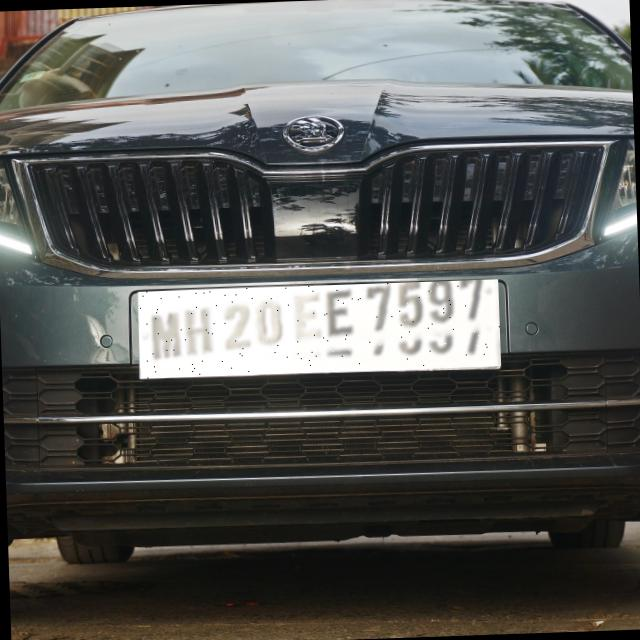Plate: (139, 280, 502, 379)
